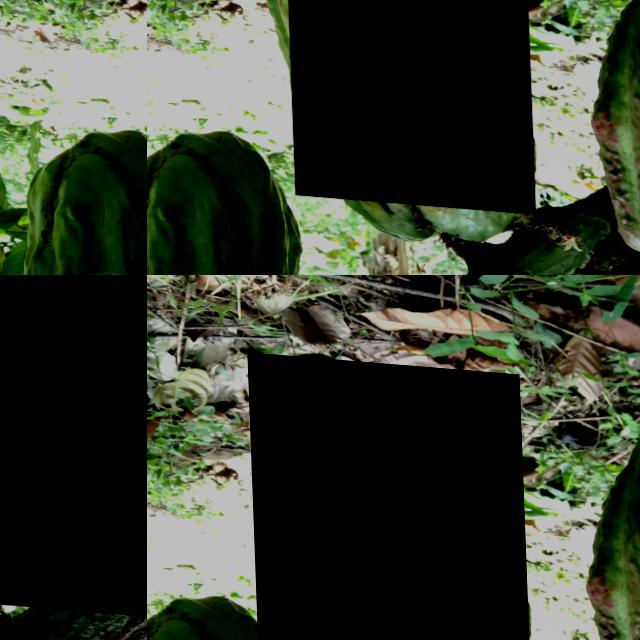Monilia: (246, 349, 528, 640)
Sana: (282, 0, 532, 206), (0, 275, 147, 613), (583, 420, 640, 640)
